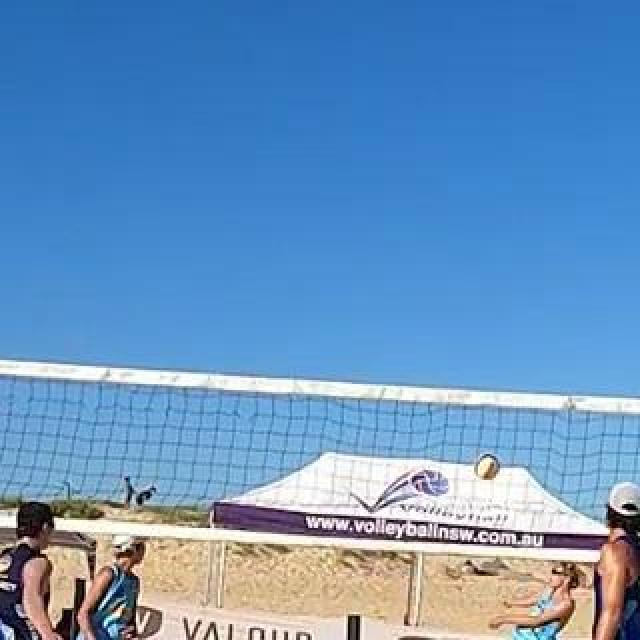volleyball: (474, 455, 502, 483)
